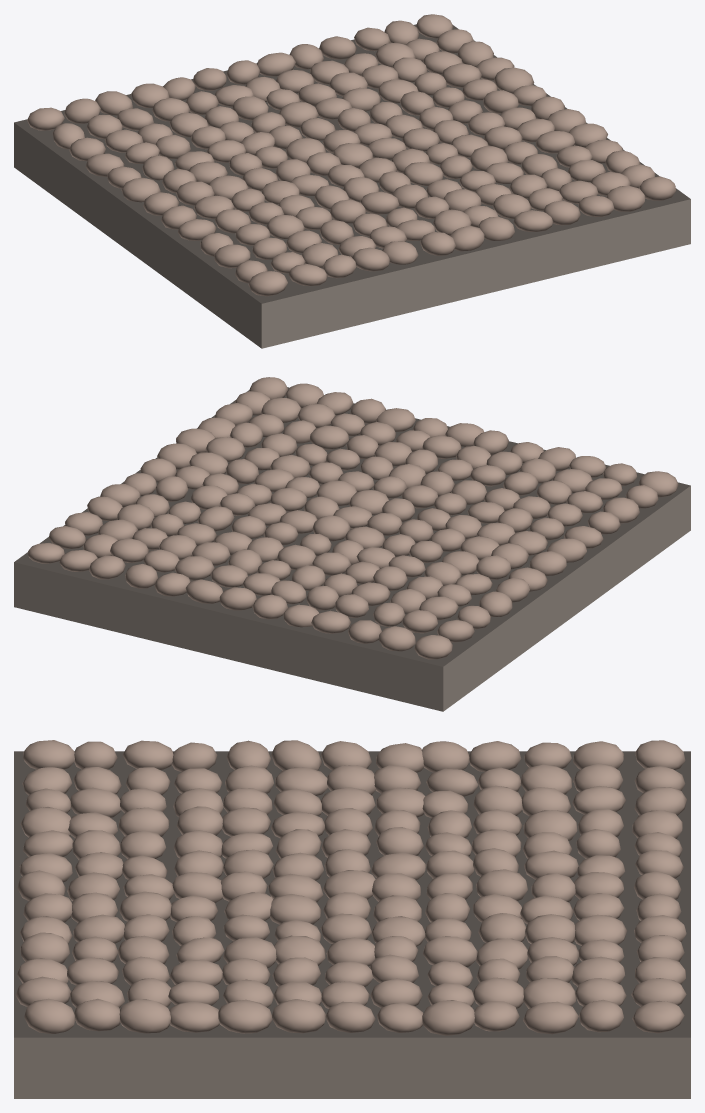
File: 25-cobble-corner.glb
The picture shows the model from 3 angles, top to bottom: view 1: azimuth 30°, elevation 25°; view 2: azimuth 150°, elevation 25°; view 3: azimuth 270°, elevation 25°; orthographic projection. The views are drawn at different scales.
Parts seen in each view (by area): view 1: Slab, StoneProto.001, StoneProto.144, StoneProto.165, StoneProto.096, StoneProto.104, StoneProto.106, StoneProto.026, StoneProto.088, StoneProto.040, StoneProto.157, StoneProto.105 (+139 smaller); view 2: Slab, StoneProto.013, StoneProto.120, StoneProto.026, StoneProto.116, StoneProto.142, StoneProto.086, StoneProto.052, StoneProto.001, StoneProto.104, StoneProto.145, StoneProto.097 (+142 smaller); view 3: Slab, StoneProto.165, StoneProto.162, StoneProto.161, StoneProto.159, StoneProto.157, StoneProto.167, StoneProto.160, StoneProto.169, StoneProto.126, StoneProto.116, StoneProto.097 (+158 smaller).
Boxes of the visible parts, x1,y1,x2,y2 form: Slab: (14, 24, 690, 348); StoneProto.001: (248, 271, 287, 296); StoneProto.144: (606, 185, 645, 211); StoneProto.165: (494, 67, 534, 93); StoneProto.096: (403, 162, 443, 185); StoneProto.104: (257, 52, 295, 76); StoneProto.106: (492, 193, 531, 218); StoneProto.026: (64, 98, 100, 123); StoneProto.088: (279, 102, 318, 127); StoneProto.040: (352, 247, 390, 271); StoneProto.157: (639, 176, 675, 200); StoneProto.105: (513, 210, 553, 232); Slab: (14, 387, 690, 711); StoneProto.013: (414, 635, 452, 659); StoneProto.120: (310, 425, 348, 449); StoneProto.026: (379, 626, 415, 651); StoneProto.116: (174, 556, 214, 580); StoneProto.142: (110, 538, 149, 562); StoneProto.086: (312, 515, 350, 541); StoneProto.052: (311, 610, 350, 633); StoneProto.001: (638, 471, 678, 497); StoneProto.104: (185, 579, 222, 603); StoneProto.145: (261, 397, 301, 422); StoneProto.097: (316, 480, 356, 506); Slab: (14, 751, 690, 1098); StoneProto.165: (422, 1000, 474, 1035); StoneProto.162: (272, 999, 325, 1033); StoneProto.161: (218, 999, 272, 1033); StoneProto.159: (119, 999, 170, 1033); StoneProto.157: (24, 998, 75, 1033); StoneProto.167: (523, 1001, 578, 1034); StoneProto.160: (169, 1001, 219, 1032); StoneProto.169: (632, 1001, 684, 1033); StoneProto.126: (423, 936, 477, 967); StoneProto.116: (574, 914, 627, 945); StoneProto.097: (269, 894, 321, 924).
Bounding box in the file's own units: 3 × 0.4122 × 3.
